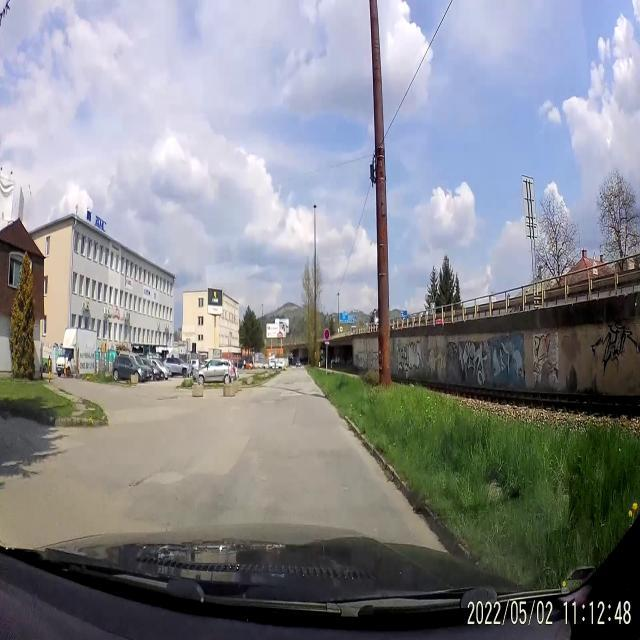Pothole: (147, 459, 183, 492), (125, 474, 146, 492), (154, 393, 178, 403)
